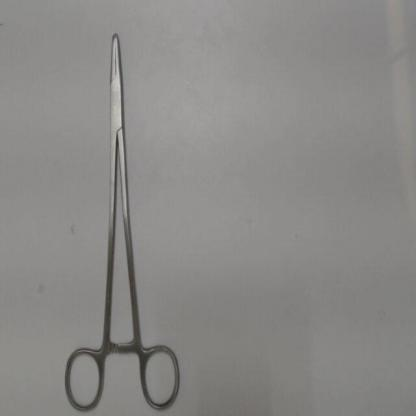8 Mayo Needle Holder: (58, 25, 186, 414)
